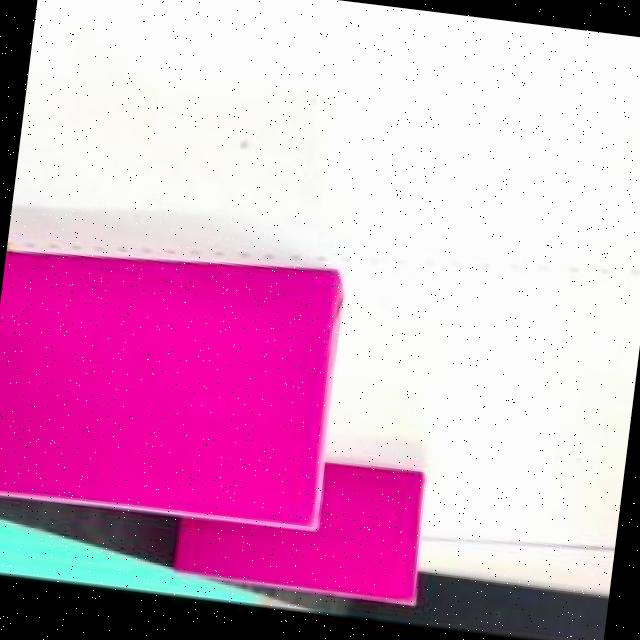xparking: (0, 228, 339, 525), (310, 458, 426, 602)
